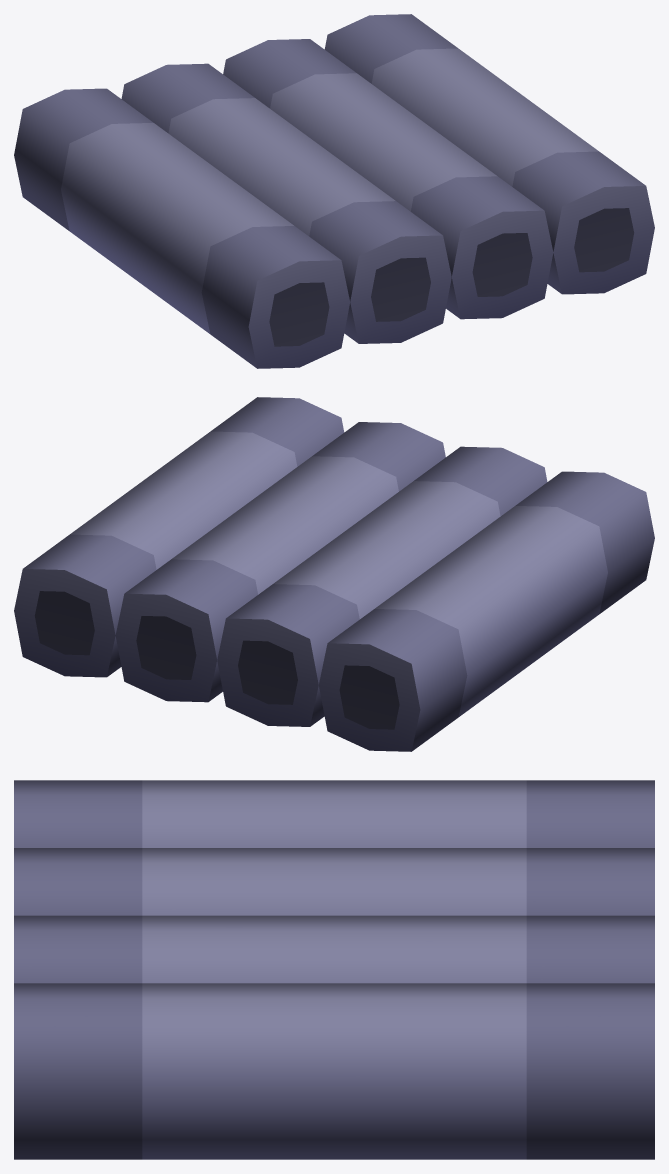
File: conveyor-bars-stripe.glb
3 renders of one model, top to bottom at view 1: azimuth 30°, elevation 25°; view 2: azimuth 150°, elevation 25°; view 3: azimuth 270°, elevation 25°, orthographic. The views are drawn at different scales.
Visible parts, largest first — view 1: conveyor-bars-stripe; view 2: conveyor-bars-stripe; view 3: conveyor-bars-stripe.
Part boxes in pixels (left/top/right/bottom): conveyor-bars-stripe: left=14, top=14, right=654, bottom=368; conveyor-bars-stripe: left=14, top=397, right=654, bottom=751; conveyor-bars-stripe: left=14, top=780, right=654, bottom=1159.
Size of the model in its own units: 1 by 0.25 by 1.
